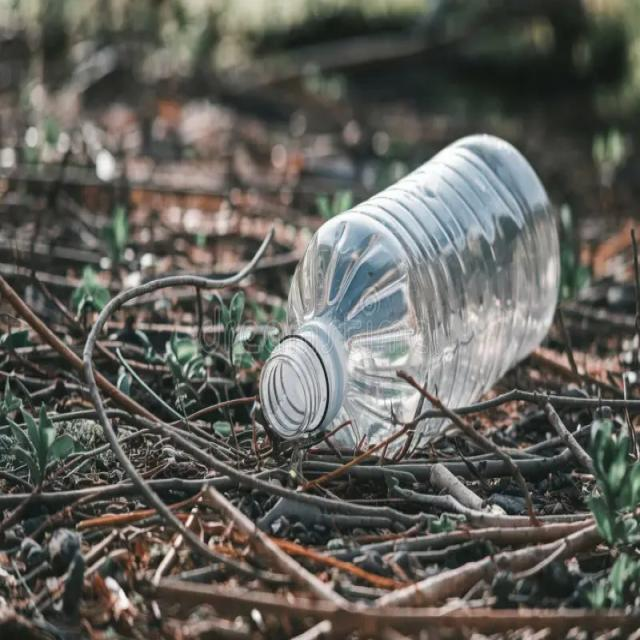plastic_bottle: (248, 125, 560, 478)
